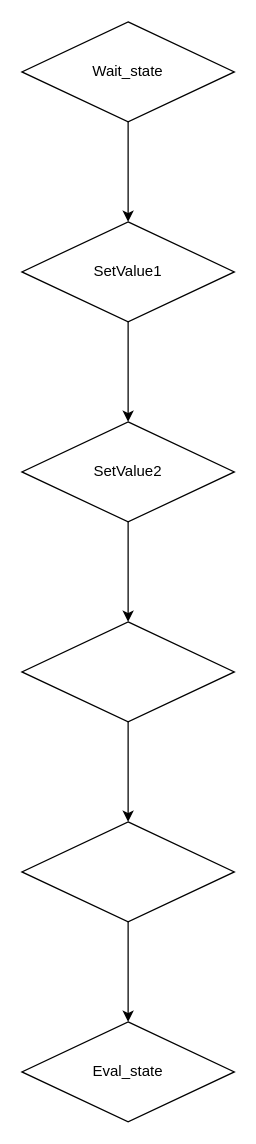
Image size: 256x1144. Some labels were removed from this diagram. The shapes that lost their labels are listed below. From the top down, each one's box as (x1, y1, x2, y2) in pixels, then its label:
(21, 621, 234, 722): SetValue3
(21, 821, 234, 922): SetValue4
